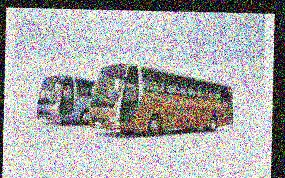bus: (87, 62, 236, 138), (36, 73, 96, 124)
